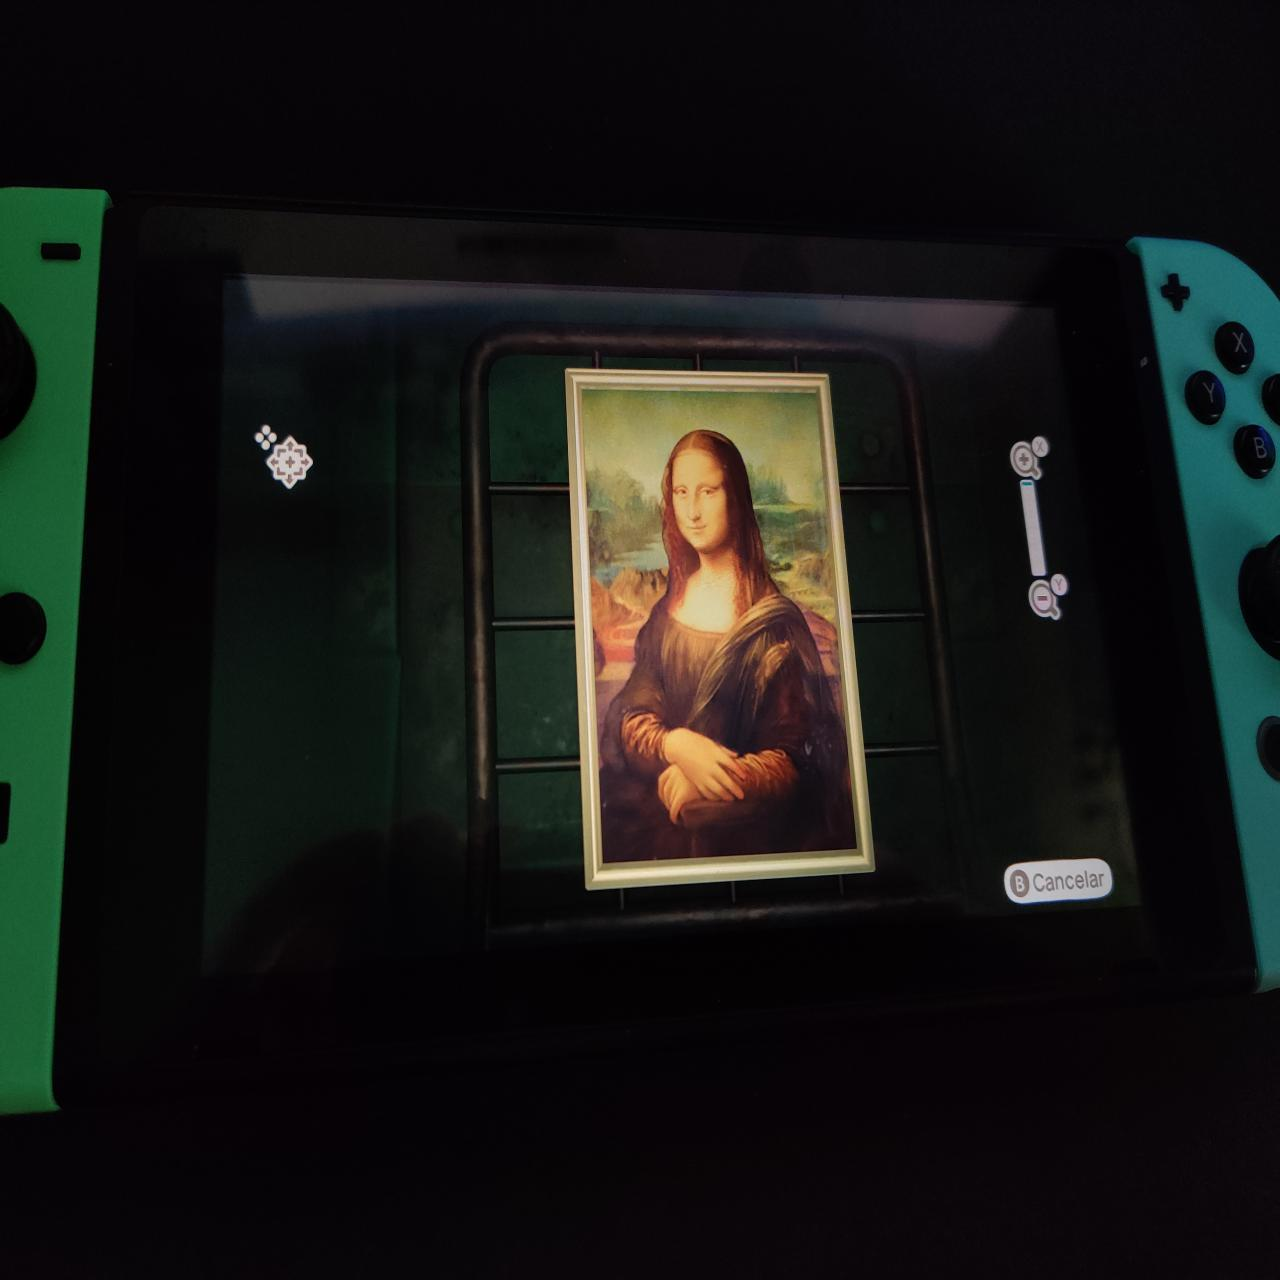MonaLisa: (580, 389, 859, 863)
